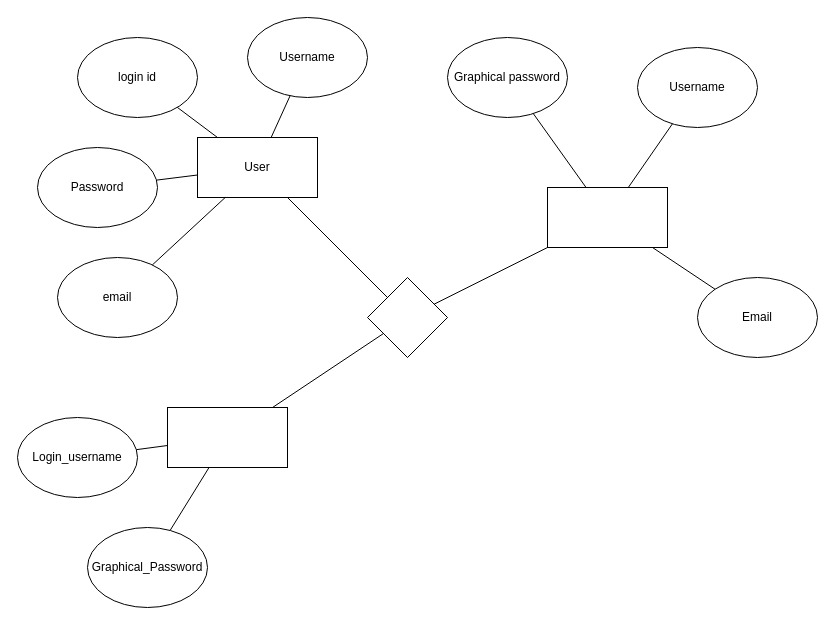
Image size: 835x625. Some labels were removed from this diagram. The centre of each missing label's shape, as x and y in pixels:
Accesses: [407,317]
Login_Page: [227,437]
Registration_Page: [607,217]
